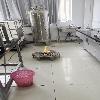fire: (42, 45, 50, 53)
